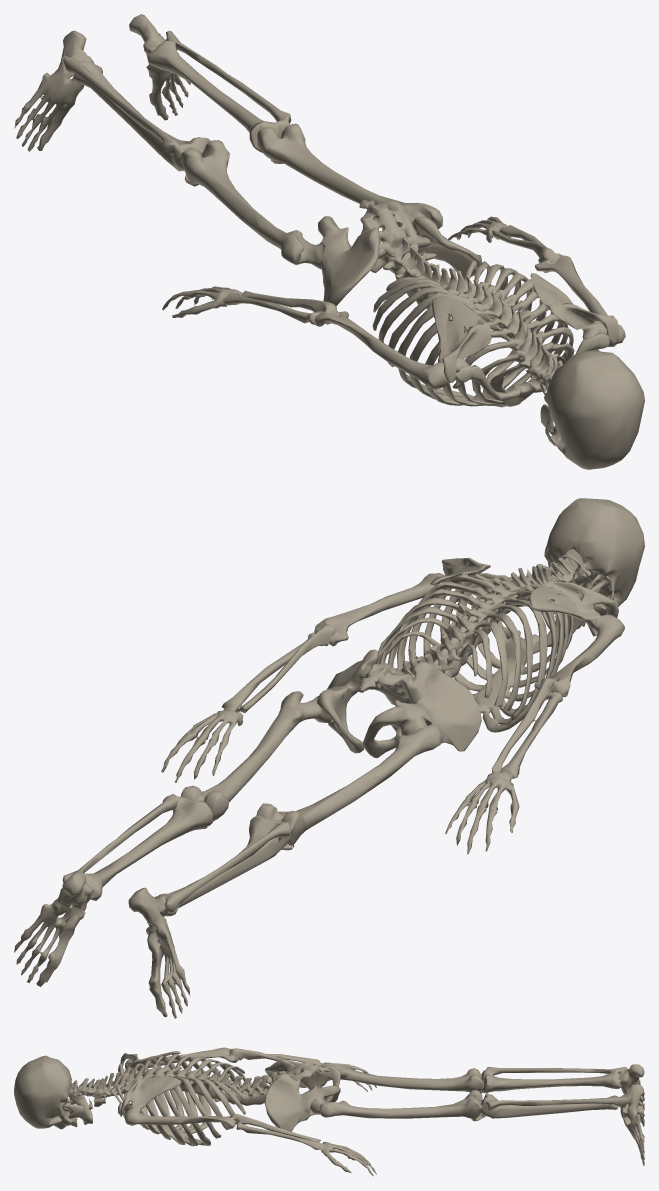
Rendered from body-01.glb.
The picture shows the model from 3 angles, top to bottom: view 1: azimuth 30°, elevation 25°; view 2: azimuth 150°, elevation 25°; view 3: azimuth 270°, elevation 25°; orthographic projection. The views are drawn at different scales.
Parts seen in each view (by area): view 1: SubTool_3_8350512_copy1; view 2: SubTool_3_8350512_copy1; view 3: SubTool_3_8350512_copy1.
Boxes of the visible parts, <box> form: SubTool_3_8350512_copy1: <box>14,14,644,469</box>; SubTool_3_8350512_copy1: <box>14,498,644,1018</box>; SubTool_3_8350512_copy1: <box>14,1047,644,1176</box>.
Size of the model in its own units: 6.44 by 2.54 by 17.07.
